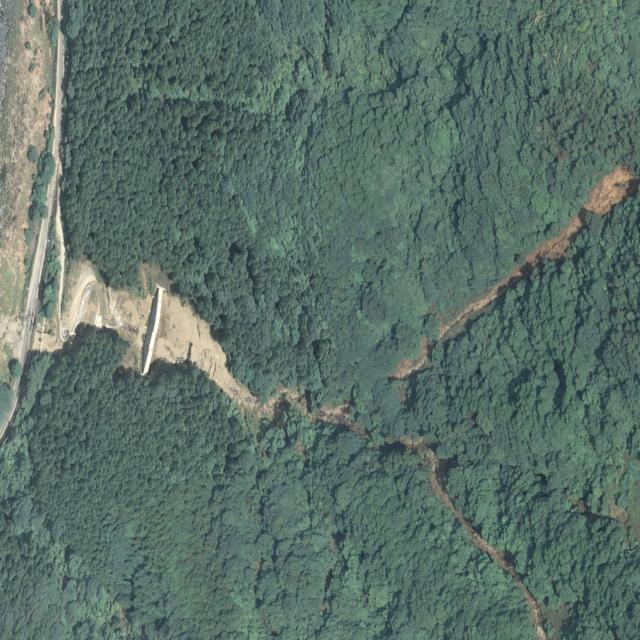landslide: (390, 164, 640, 379), (152, 288, 260, 409)
